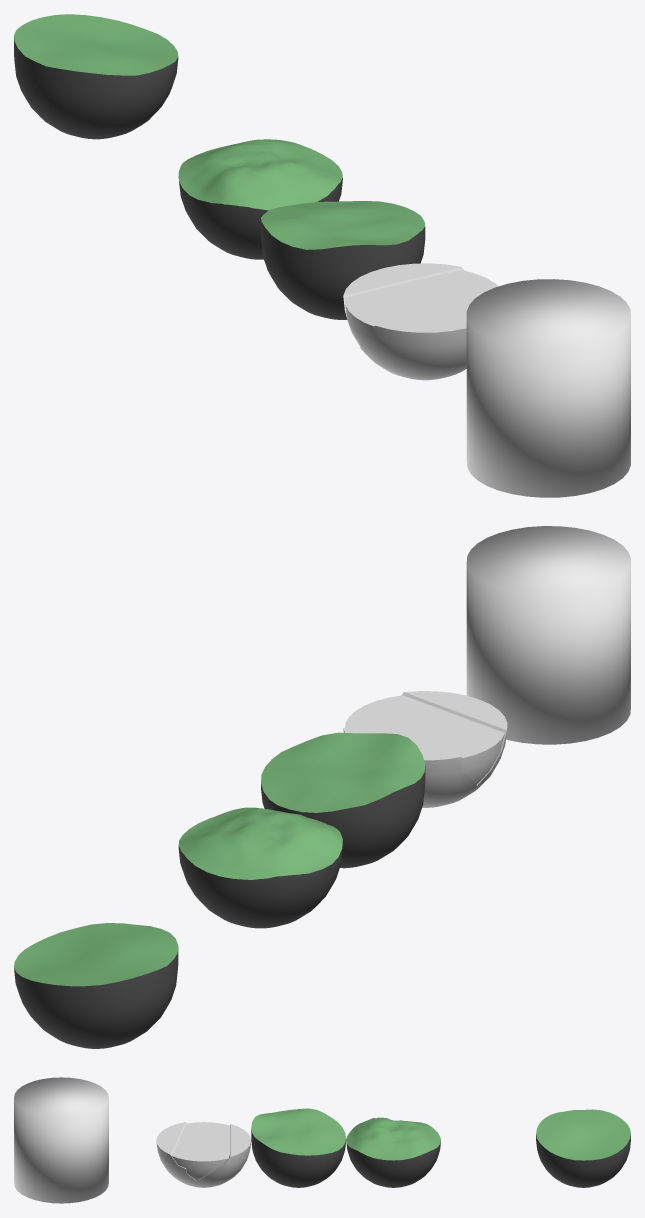
File: Dioramas.fbx
The picture shows the model from 3 angles, top to bottom: view 1: azimuth 30°, elevation 25°; view 2: azimuth 150°, elevation 25°; view 3: azimuth 270°, elevation 25°; orthographic projection. The views are drawn at different scales.
Parts seen in each view (by area): view 1: Cylinder, Diorama 1, Diorama 2, Diorama 3, Sphere, Sphere.001; view 2: Cylinder, Diorama 1, Diorama 3, Diorama 2, Sphere.001, Sphere; view 3: Cylinder, Diorama 2, Diorama 1, Diorama 3, Sphere, Sphere.001.
Boxes of the visible parts, left/top/right/bottom form: Cylinder: left=466, top=279, right=630, bottom=497; Diorama 1: left=14, top=14, right=178, bottom=139; Diorama 2: left=261, top=201, right=425, bottom=319; Diorama 3: left=178, top=139, right=342, bottom=259; Sphere: left=343, top=263, right=466, bottom=380; Sphere.001: left=345, top=270, right=498, bottom=345; Cylinder: left=466, top=526, right=630, bottom=744; Diorama 1: left=14, top=923, right=178, bottom=1048; Diorama 3: left=178, top=807, right=342, bottom=928; Diorama 2: left=261, top=732, right=425, bottom=868; Sphere.001: left=345, top=695, right=504, bottom=785; Sphere: left=343, top=691, right=507, bottom=807; Cylinder: left=14, top=1077, right=108, bottom=1203; Diorama 2: left=251, top=1108, right=346, bottom=1187; Diorama 1: left=536, top=1109, right=630, bottom=1187; Diorama 3: left=346, top=1117, right=440, bottom=1187; Sphere: left=156, top=1122, right=251, bottom=1187; Sphere.001: left=172, top=1122, right=229, bottom=1180.
Size of the model in its own units: 200 by 200 by 1300.
